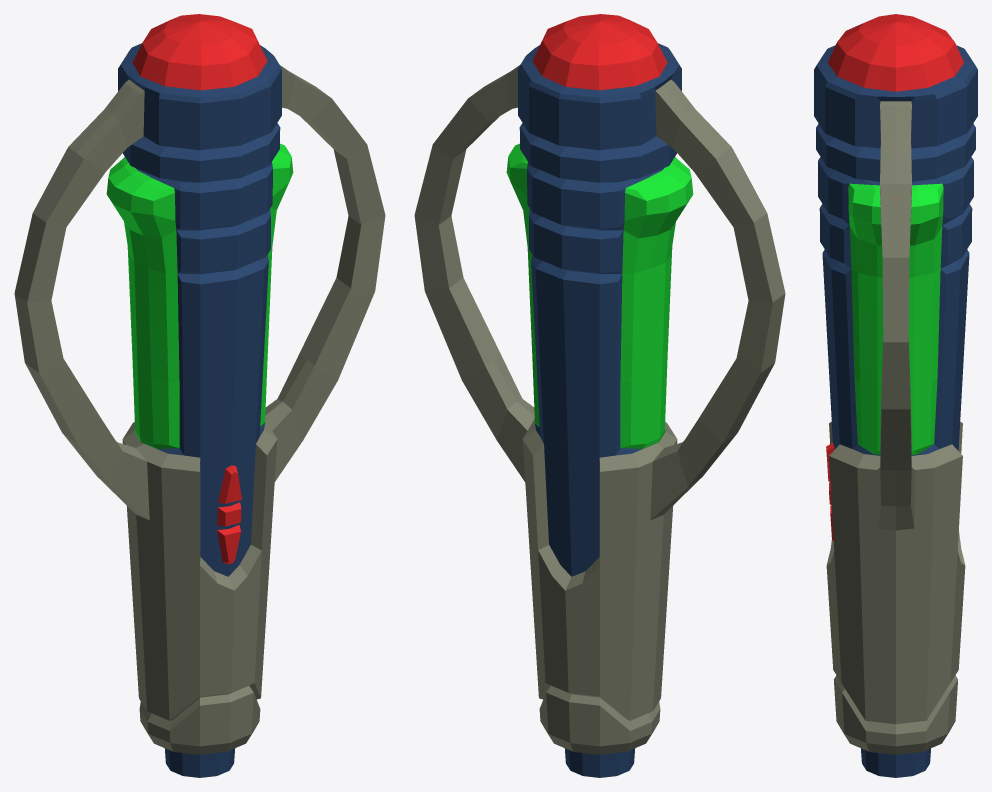
File: Injectors 3 uses .fbx
3 views of the same model, side by side, from view 1: azimuth 30°, elevation 25°; view 2: azimuth 150°, elevation 25°; view 3: azimuth 270°, elevation 25° (orthographic).
Parts seen in each view (by area): view 1: Injector 2; view 2: Injector 2; view 3: Injector 2.
Part boxes in pixels (x1,y1,x2,y2): Injector 2: (14, 14, 385, 777); Injector 2: (414, 14, 785, 777); Injector 2: (814, 14, 977, 777).
Size of the model in its own units: 16.25 by 32.24 by 6.44.
